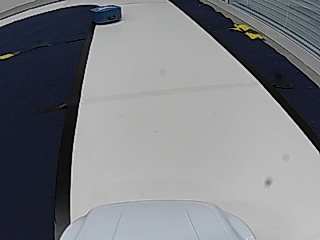prop: (91, 6, 121, 24)
